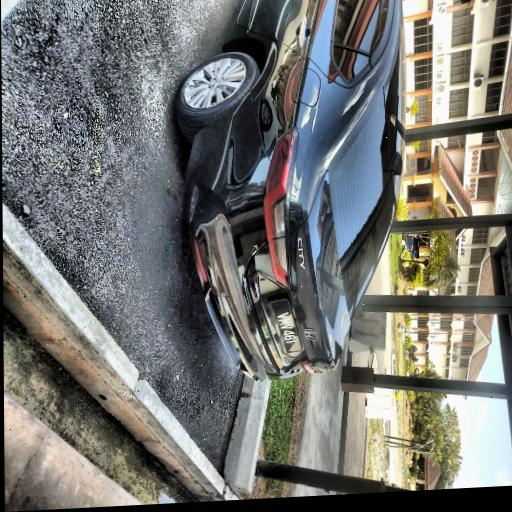license_plate: (267, 300, 301, 354)
